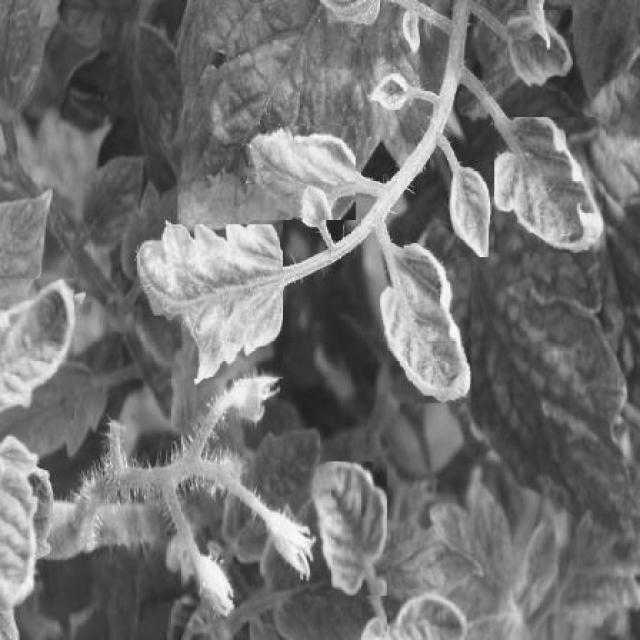Yellow Leaf Curl Virus: (136, 224, 283, 379), (377, 243, 472, 403), (495, 117, 606, 253), (0, 278, 74, 420), (310, 462, 387, 597), (246, 126, 356, 220), (507, 10, 573, 90), (388, 588, 468, 640), (448, 164, 489, 257)
